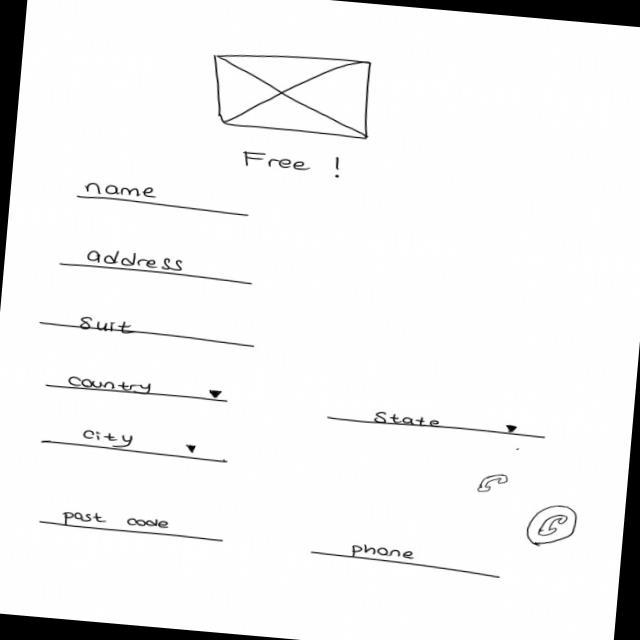icon-button: (524, 502, 580, 551)
image: (205, 46, 377, 142)
input: (36, 309, 258, 349), (56, 243, 256, 286), (307, 537, 501, 579), (35, 504, 226, 544), (75, 178, 252, 220)
label: (240, 148, 312, 172)
select: (37, 421, 231, 465), (327, 404, 549, 442), (42, 372, 230, 404)
